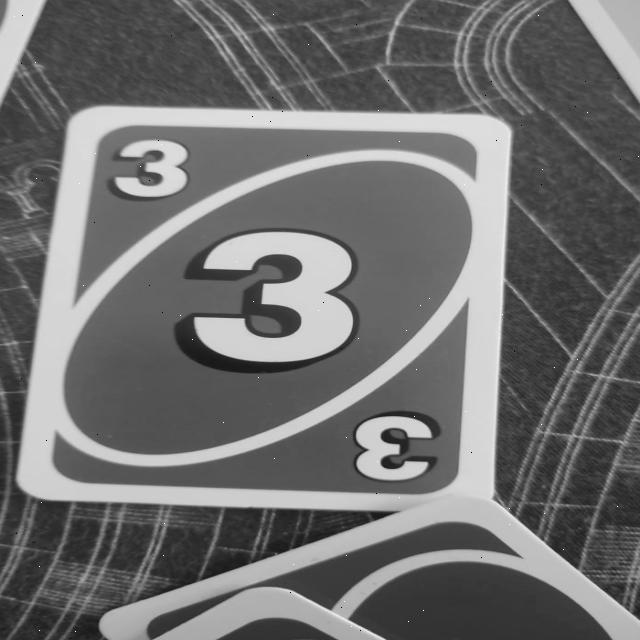card_3: (14, 104, 513, 512)
